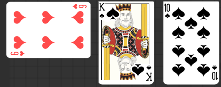10C: (164, 3, 172, 20)
4H: (72, 4, 88, 11)
